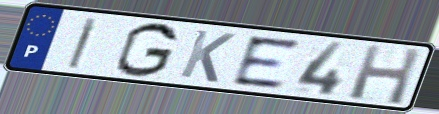4: (293, 39, 348, 98)
E: (230, 34, 303, 90)
G: (112, 21, 181, 79)
H: (346, 43, 424, 108)
I: (64, 15, 102, 71)
K: (176, 27, 239, 85)
